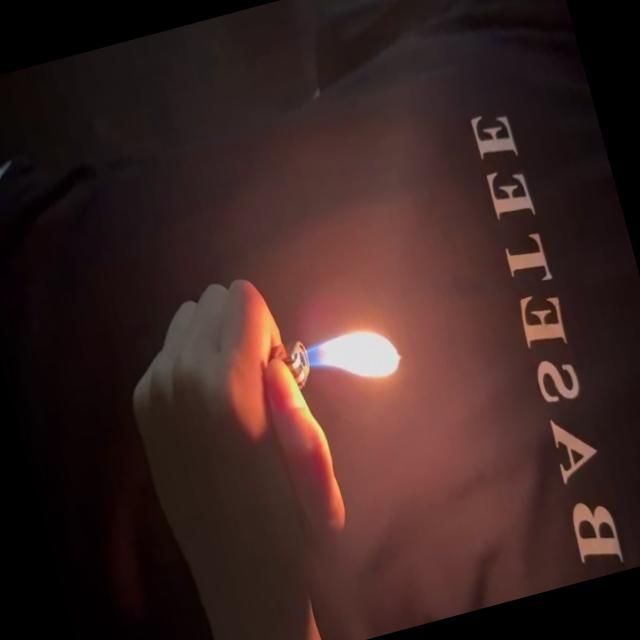Fire: (294, 310, 408, 400)
